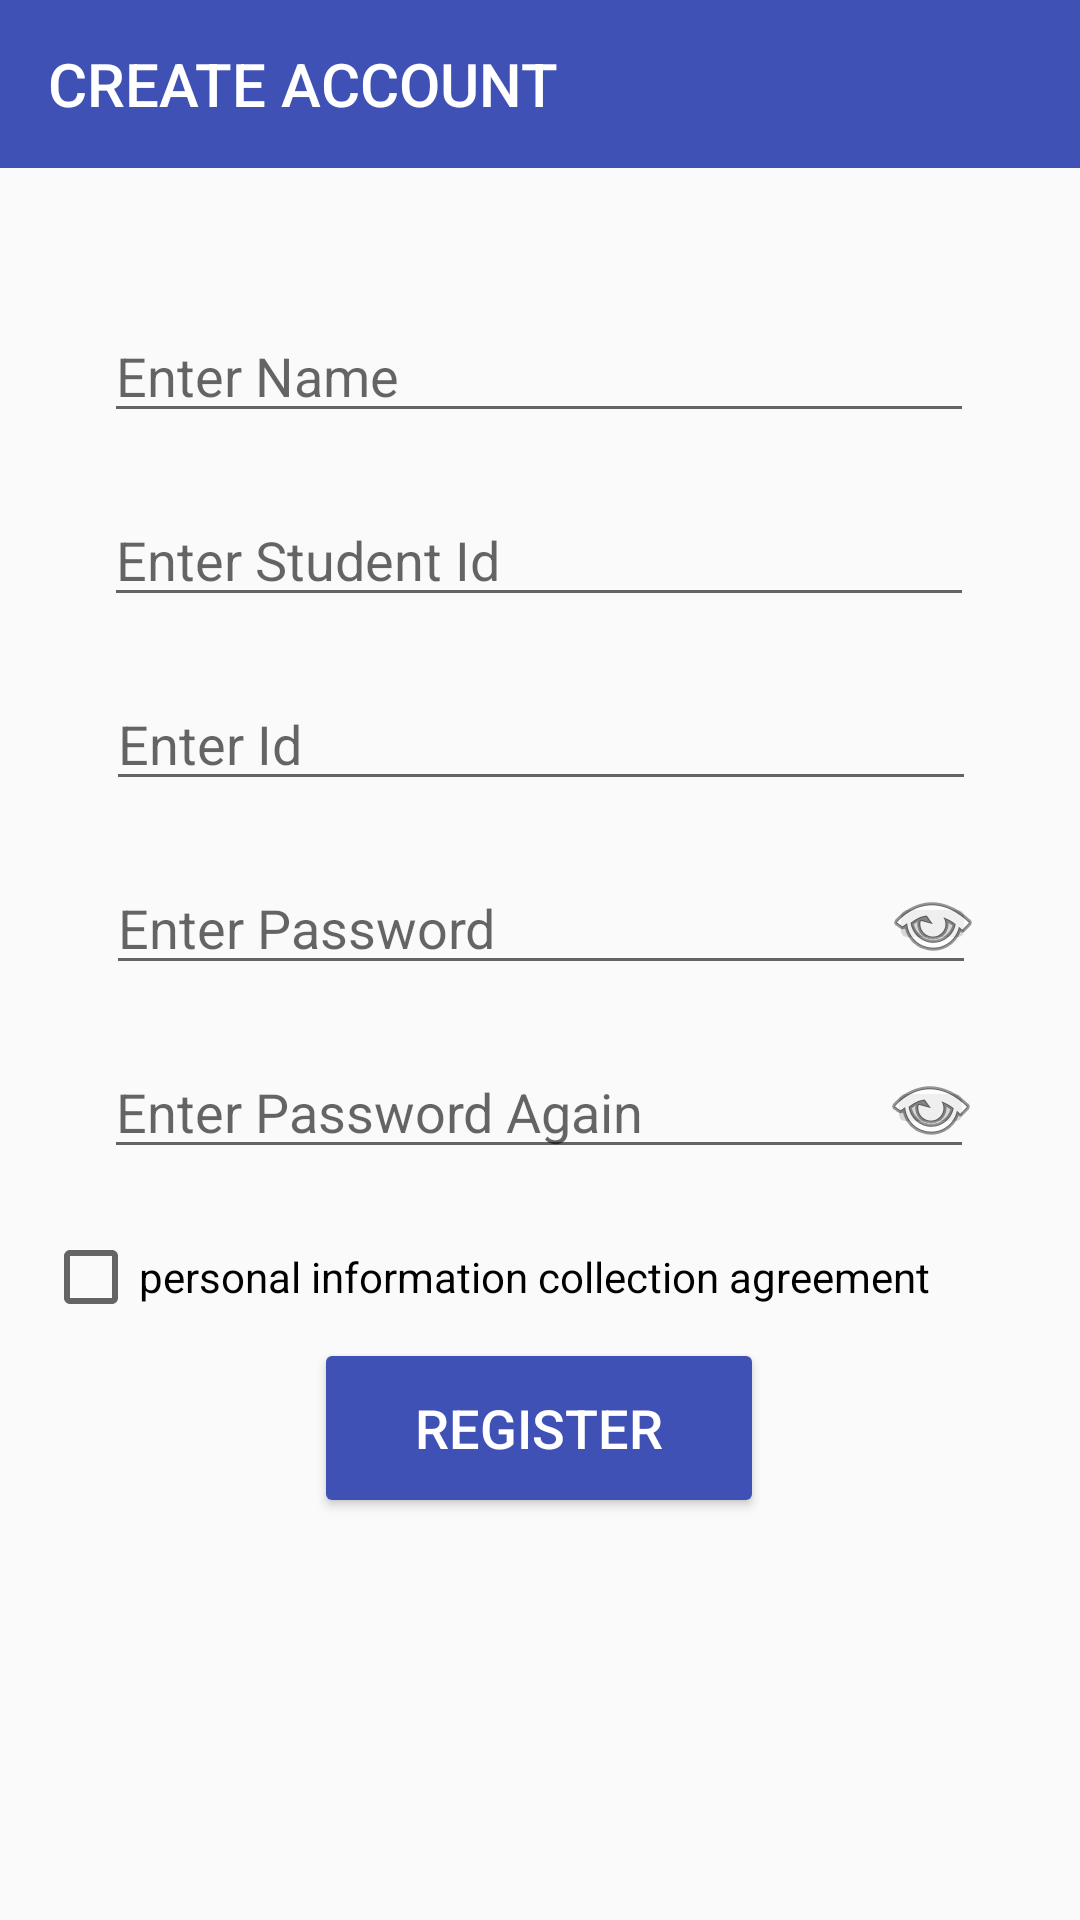

Screen size 1080 x 1920. Icon name, then its box in pixels as (x1, y1, x2, y2):
view: (894, 902, 972, 951), (892, 1086, 970, 1135)
